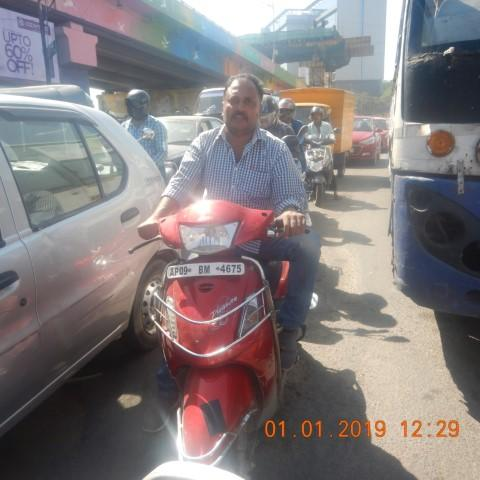plate: (168, 262, 244, 275)
